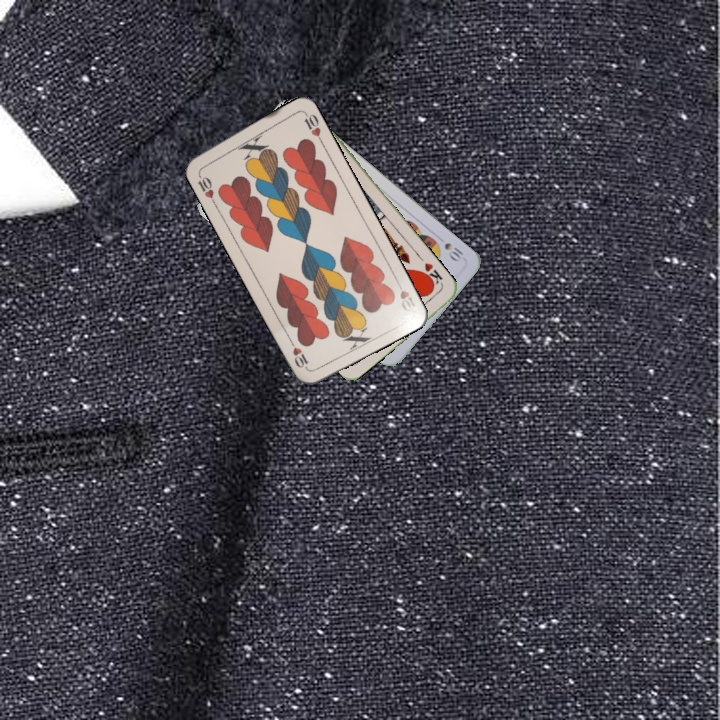H10: (392, 276, 420, 315), (193, 168, 218, 206)
HK: (417, 259, 446, 290)
S10: (440, 238, 466, 263)
